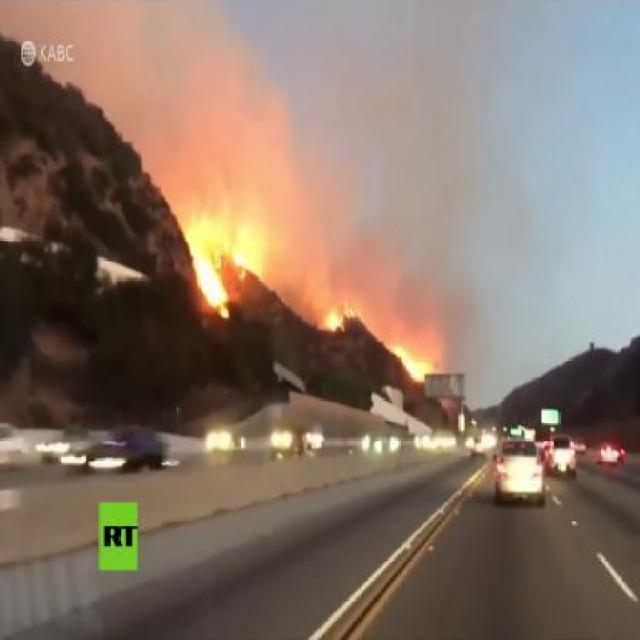Fire: (396, 345, 437, 385), (326, 300, 356, 336)
